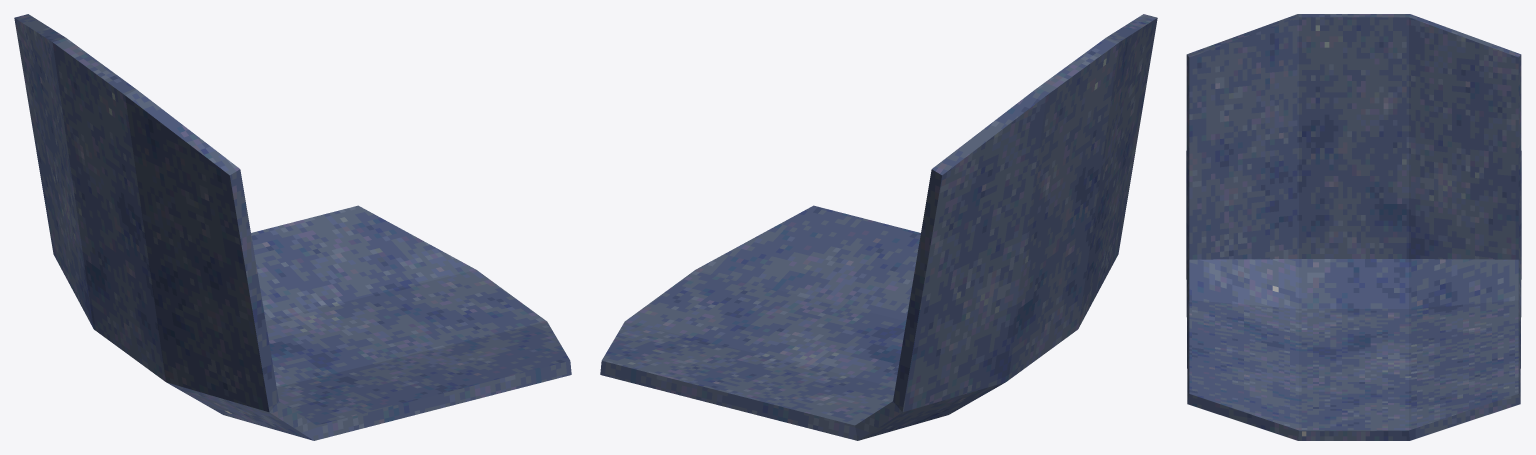
File: busstop_single_seat_loose.glb
3 views of the same model, side by side, from view 1: azimuth 30°, elevation 25°; view 2: azimuth 150°, elevation 25°; view 3: azimuth 270°, elevation 25° (orthographic). The views are drawn at different scales.
Visible parts, largest first — view 1: busstop_single_seat_loose; view 2: busstop_single_seat_loose; view 3: busstop_single_seat_loose.
Boxes of the visible parts, left/top/right/bottom form: busstop_single_seat_loose: left=14, top=14, right=571, bottom=440; busstop_single_seat_loose: left=600, top=14, right=1157, bottom=440; busstop_single_seat_loose: left=1186, top=14, right=1521, bottom=440.
Bounding box in the file's own units: 0.692 × 0.54 × 0.6118.
Materials: 1 (1 with a texture image).
